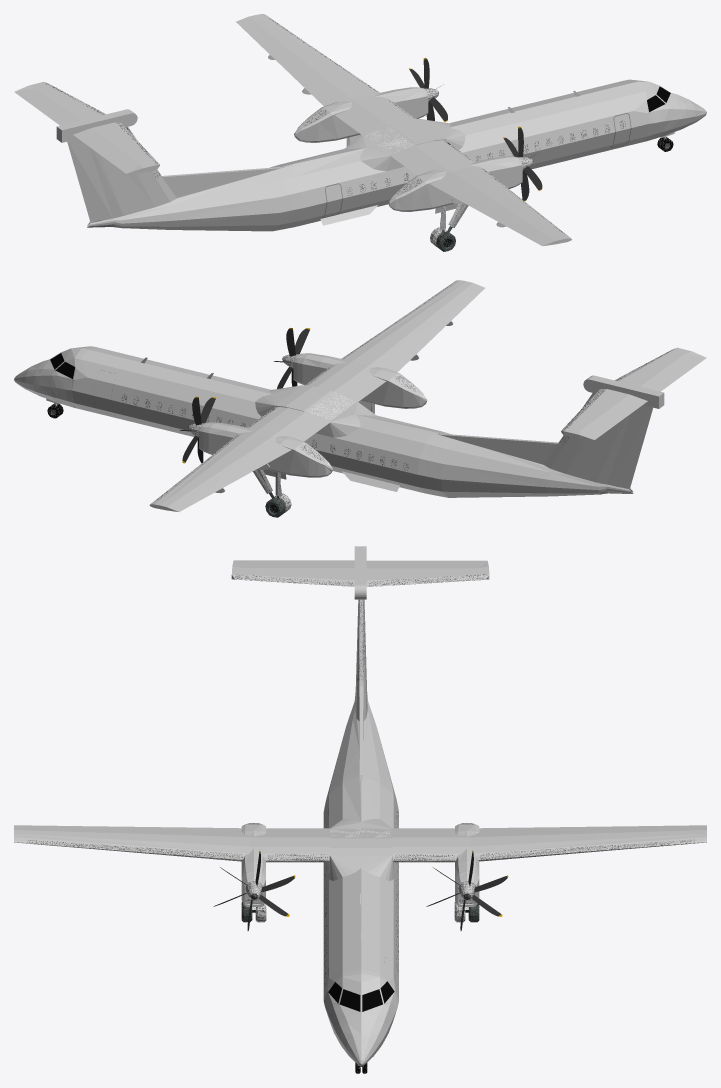
3 views of the same model, one above another, from view 1: azimuth 30°, elevation 25°; view 2: azimuth 150°, elevation 25°; view 3: azimuth 270°, elevation 25° (orthographic). The views are drawn at different scales.
Parts seen in each view (by area): view 1: mesh10_mesh10-geometry, mesh40_mesh40-geometry, mesh39_mesh39-geometry, mesh17_mesh17-geometry, mesh29_mesh29-geometry, mesh42_mesh42-geometry; view 2: mesh10_mesh10-geometry, mesh39_mesh39-geometry, mesh40_mesh40-geometry, mesh17_mesh17-geometry, mesh18_mesh18-geometry, mesh41_mesh41-geometry; view 3: mesh10_mesh10-geometry, mesh39_mesh39-geometry, mesh40_mesh40-geometry.
Part boxes in pixels (x1=…): mesh10_mesh10-geometry: x1=67, y1=14, x2=706, y2=246; mesh40_mesh40-geometry: x1=73, y1=122, x2=159, y2=173; mesh39_mesh39-geometry: x1=14, y1=82, x2=105, y2=125; mesh17_mesh17-geometry: x1=56, y1=109, x2=137, y2=142; mesh29_mesh29-geometry: x1=430, y1=226, x2=455, y2=251; mesh42_mesh42-geometry: x1=320, y1=205, x2=377, y2=225; mesh10_mesh10-geometry: x1=14, y1=280, x2=652, y2=511; mesh39_mesh39-geometry: x1=561, y1=389, x2=647, y2=440; mesh40_mesh40-geometry: x1=614, y1=347, x2=706, y2=391; mesh17_mesh17-geometry: x1=583, y1=375, x2=664, y2=408; mesh18_mesh18-geometry: x1=265, y1=491, x2=291, y2=517; mesh41_mesh41-geometry: x1=342, y1=471, x2=399, y2=491; mesh10_mesh10-geometry: x1=14, y1=599, x2=706, y2=1066; mesh39_mesh39-geometry: x1=366, y1=560, x2=489, y2=586; mesh40_mesh40-geometry: x1=231, y1=560, x2=354, y2=586.
Size of the model in its own units: 0.7593 by 0.19 by 0.6224.
